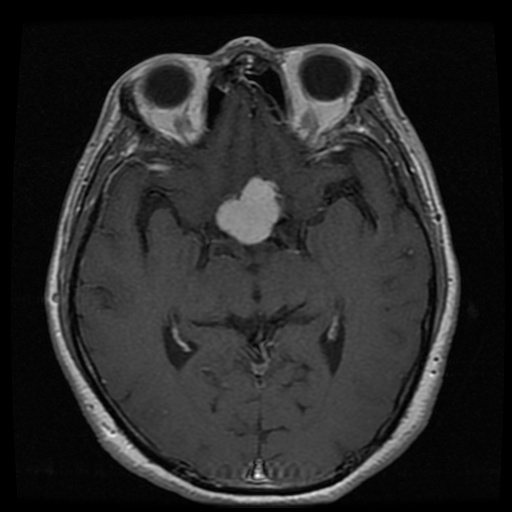meningioma: (217, 176, 279, 245)
